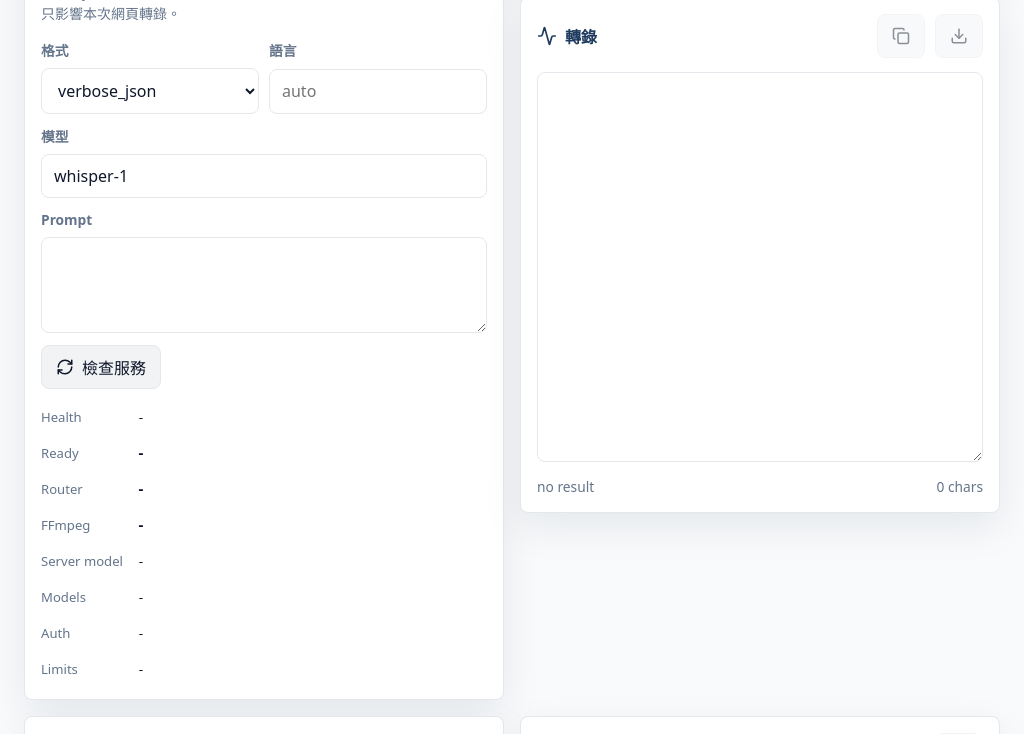
Test case: App › aborts stale server diagnostics when a newer check starts
(page scrolled)
Click the button "檢查服務".
click(101, 367)  # box [41,345,161,389]
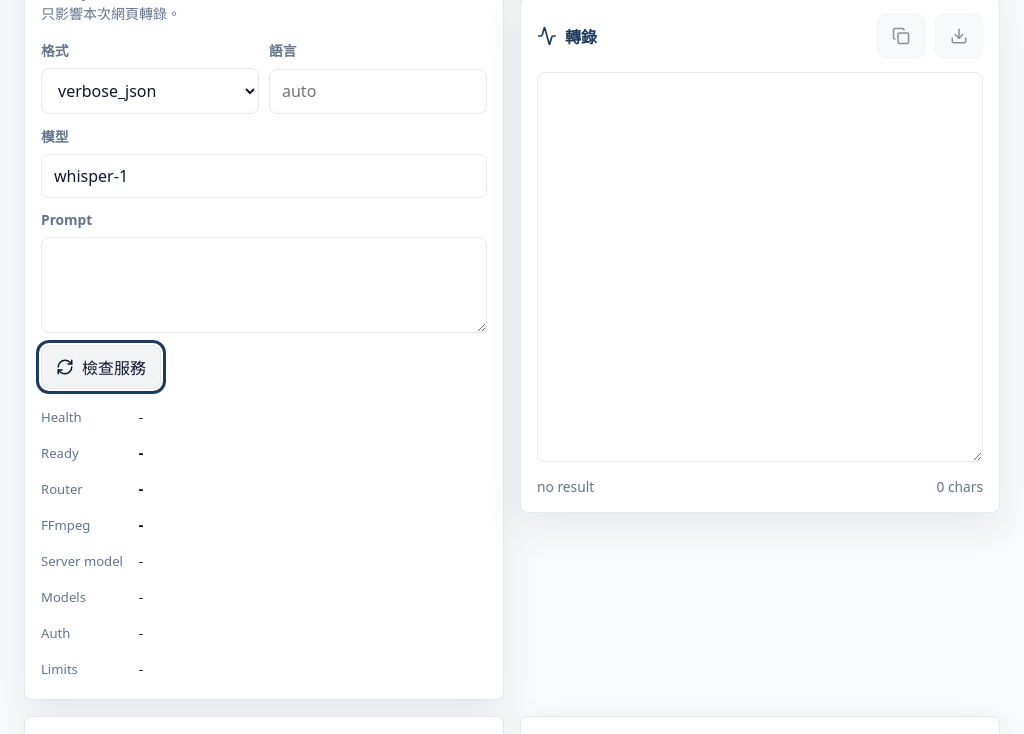
Click the button "檢查服務".
click(101, 367)  # box [41,345,161,389]
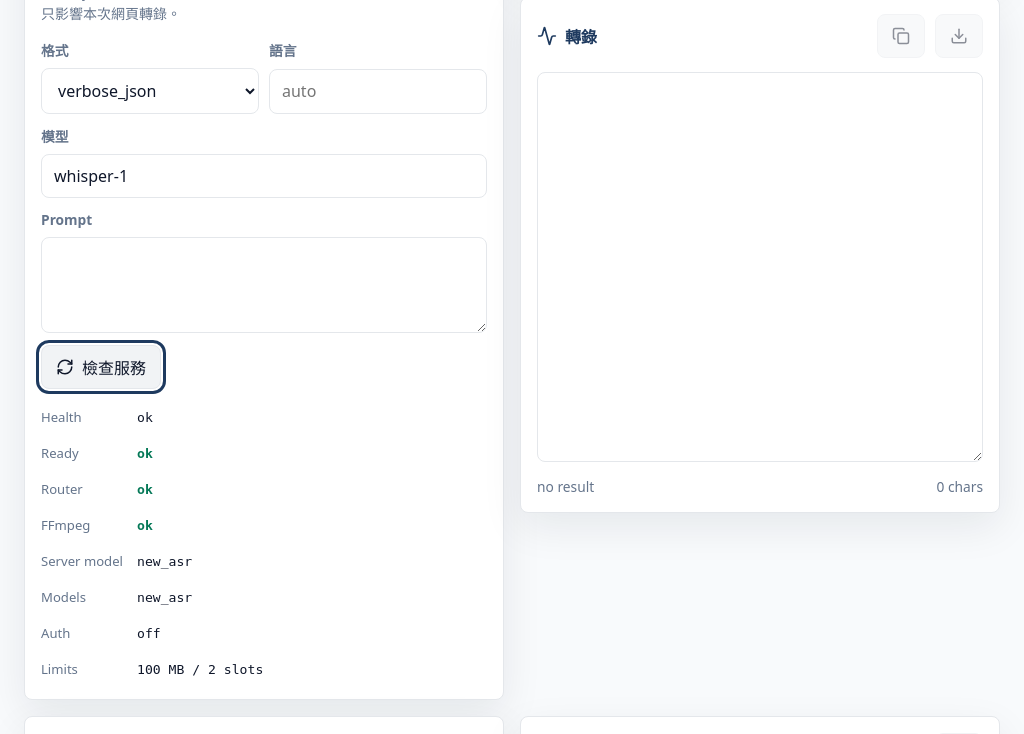
Check: the text "new_asr" next to "Server model" is shown, box [137,554,192,569]
